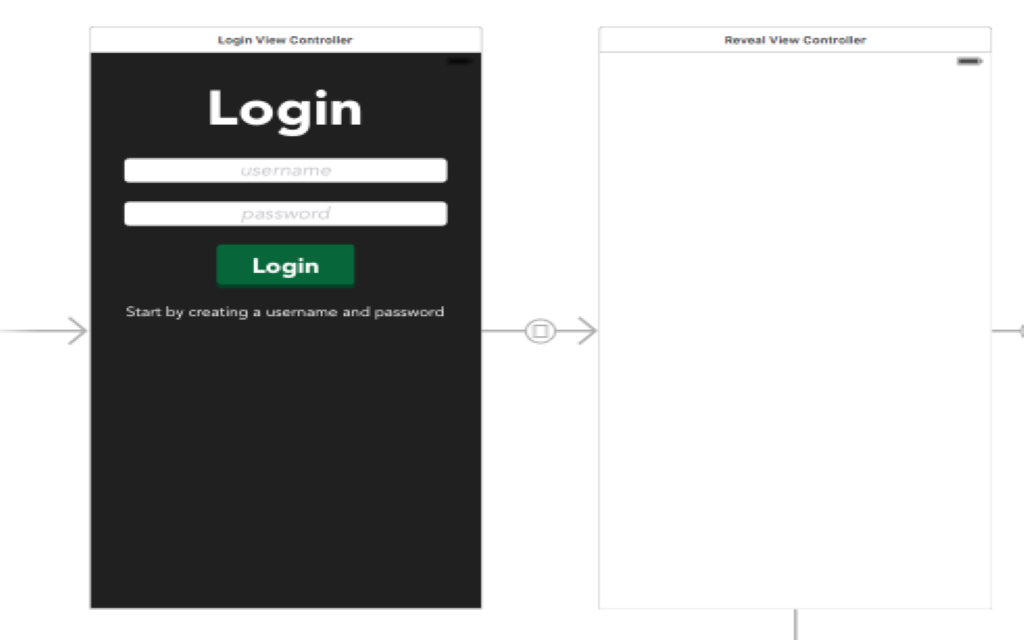button: (216, 245, 355, 286)
button_login: (217, 246, 353, 284)
label_Login: (248, 255, 322, 281)
label_Username: (239, 164, 334, 179)
label_password: (237, 207, 333, 223)
textbox: (124, 158, 447, 184), (124, 202, 447, 226)
textbox_Password: (123, 202, 446, 226)
textbox_username: (124, 158, 448, 182)
